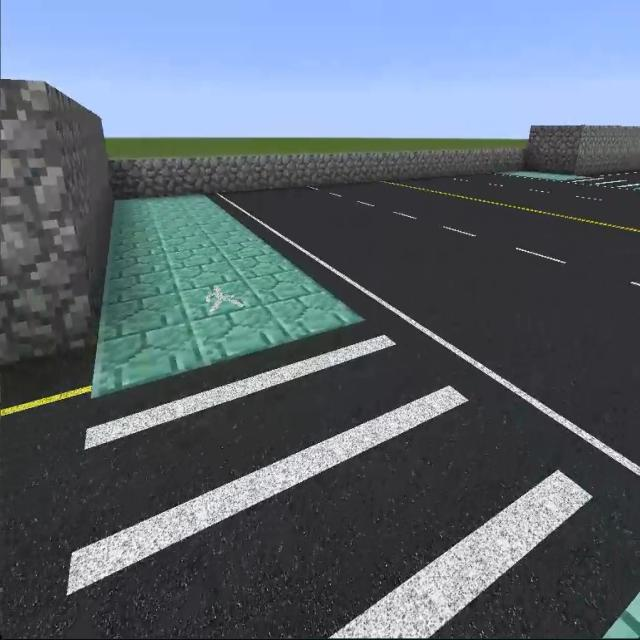crosswalk: (52, 320, 634, 636), (567, 177, 638, 196)
road: (217, 175, 638, 512), (4, 360, 81, 626)
sidewalk: (92, 196, 363, 396), (504, 171, 584, 180)
